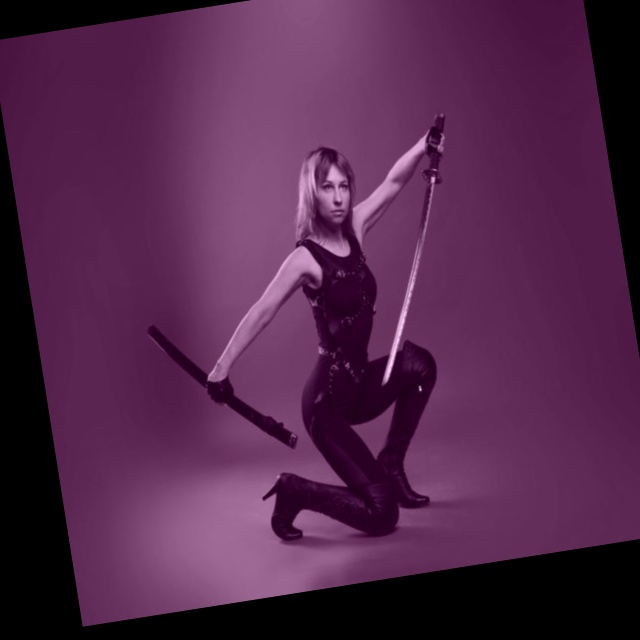Sharp-Object: (341, 115, 489, 382)
